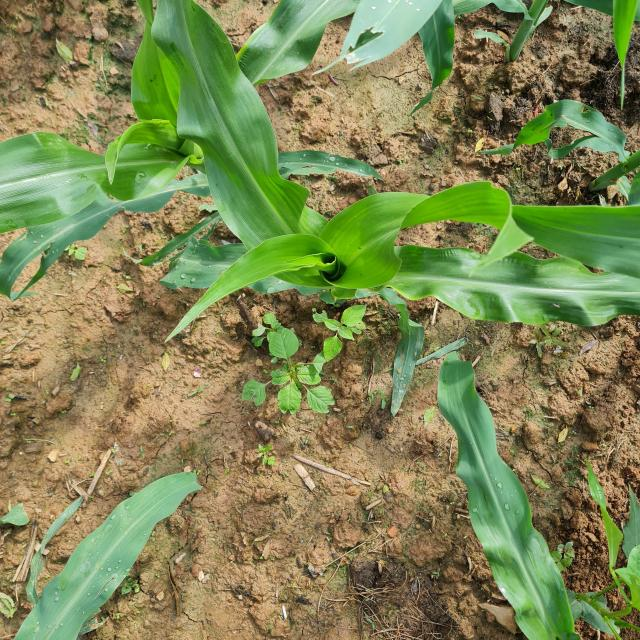maize: (6, 4, 640, 303), (431, 370, 640, 639), (2, 431, 196, 640)
weed: (260, 326, 347, 430)
